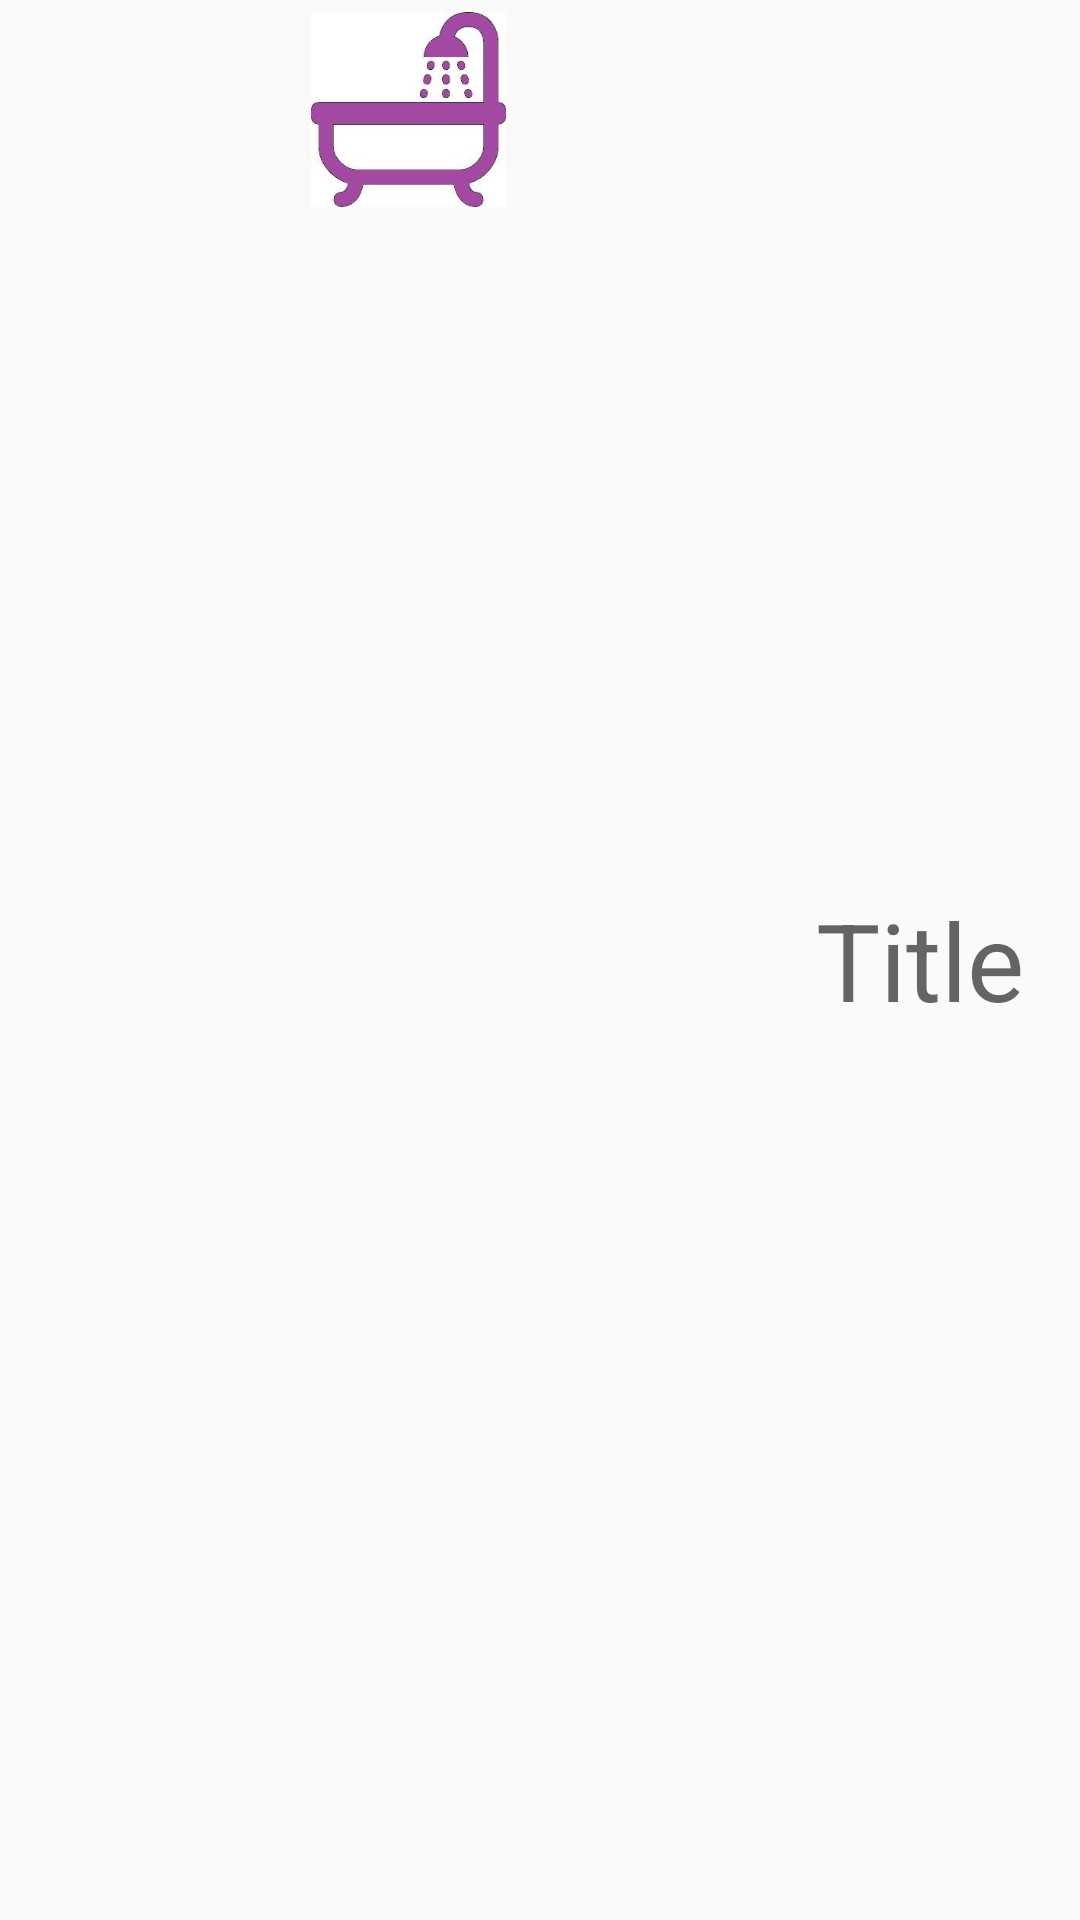

Icon bounding boxes for this 1080px x 1920px phone screenshot, format (x1, y1, x2, y2):
bathing: (311, 12, 506, 207)
